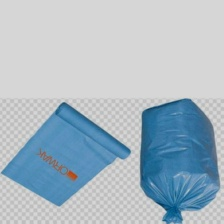plastic_bag: (0, 97, 132, 210), (133, 95, 223, 223)
